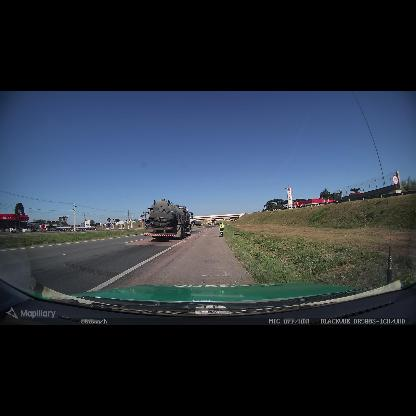R-19: (392, 175, 399, 185)
